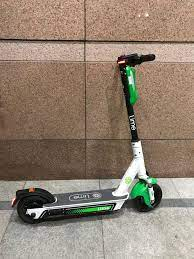kick_board: (12, 52, 161, 223)
kick_body: (56, 193, 123, 212)
kick_handler: (119, 53, 155, 65)
kick_neck: (123, 71, 146, 173)
kick_wheel: (11, 189, 49, 223), (135, 177, 163, 210)
